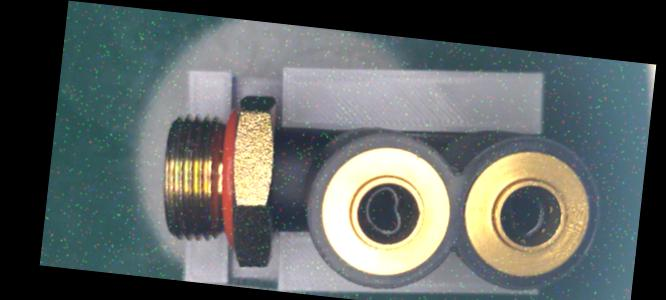off-centered: (357, 182, 413, 242), (499, 185, 553, 240)
